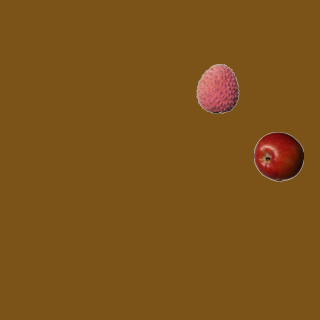Apple Braeburn: (253, 131, 303, 181)
Lychee: (192, 63, 242, 113)
